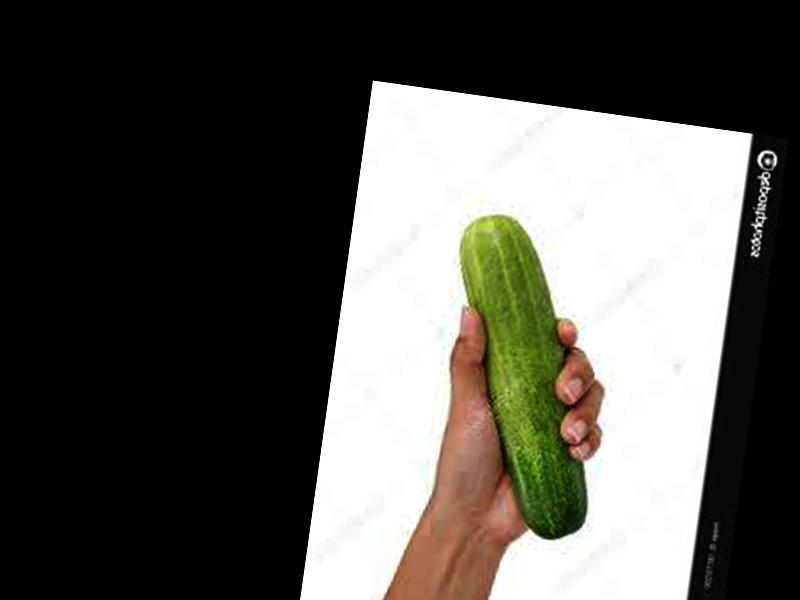Cucumber: (419, 211, 623, 544)
